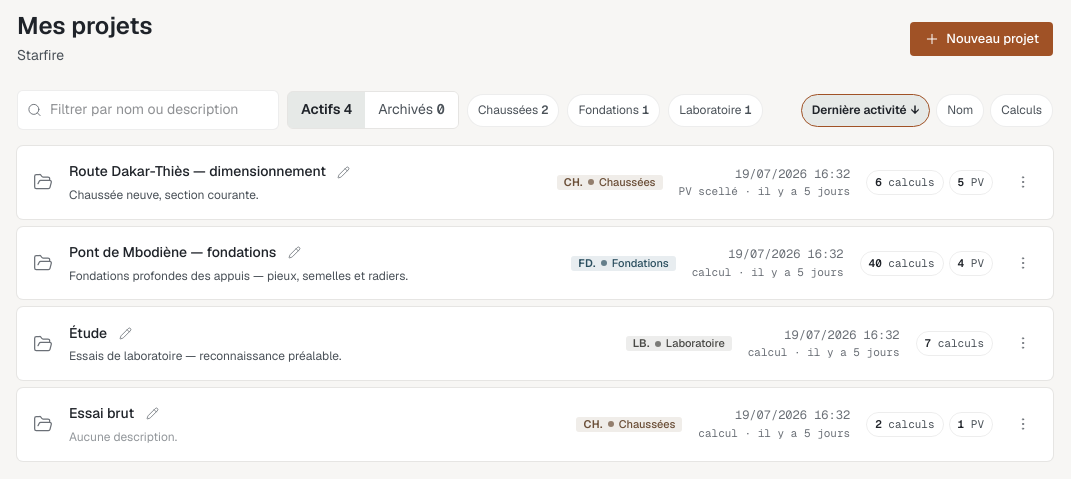
Test: Liste des projets — colonne Contenu, description, menu d’actions › #3 GIVEN une ligne de projet — WHEN on clique le bouton ⋮ — THEN un menu role="menu" s’ouvre avec les 3 actions
Click the button named "Actions sur le projet Route Dakar-Thiès — dimensionnement".
click(1023, 182)  # box x1=1009 y1=168 x2=1037 y2=196
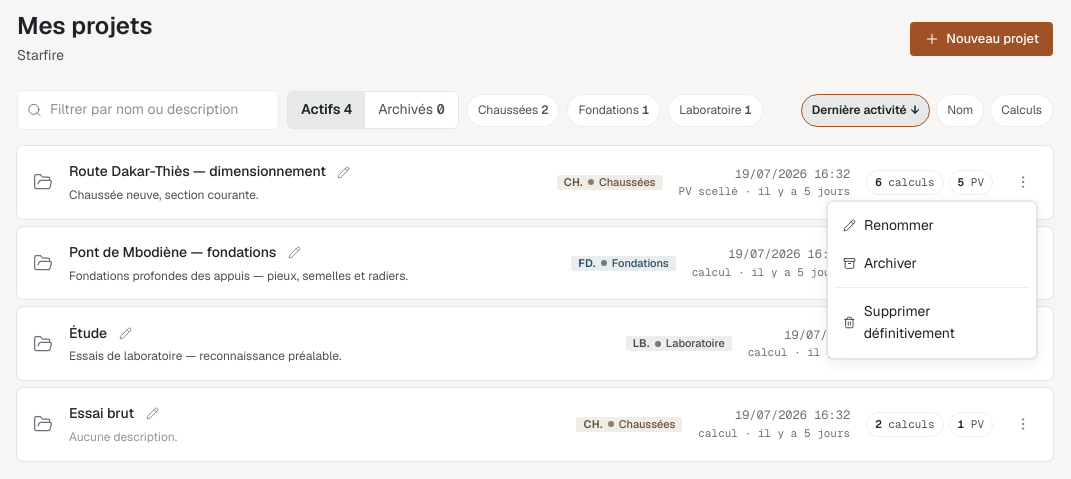
Check: the menu is shown, box x1=827 y1=201 x2=1037 y2=359
